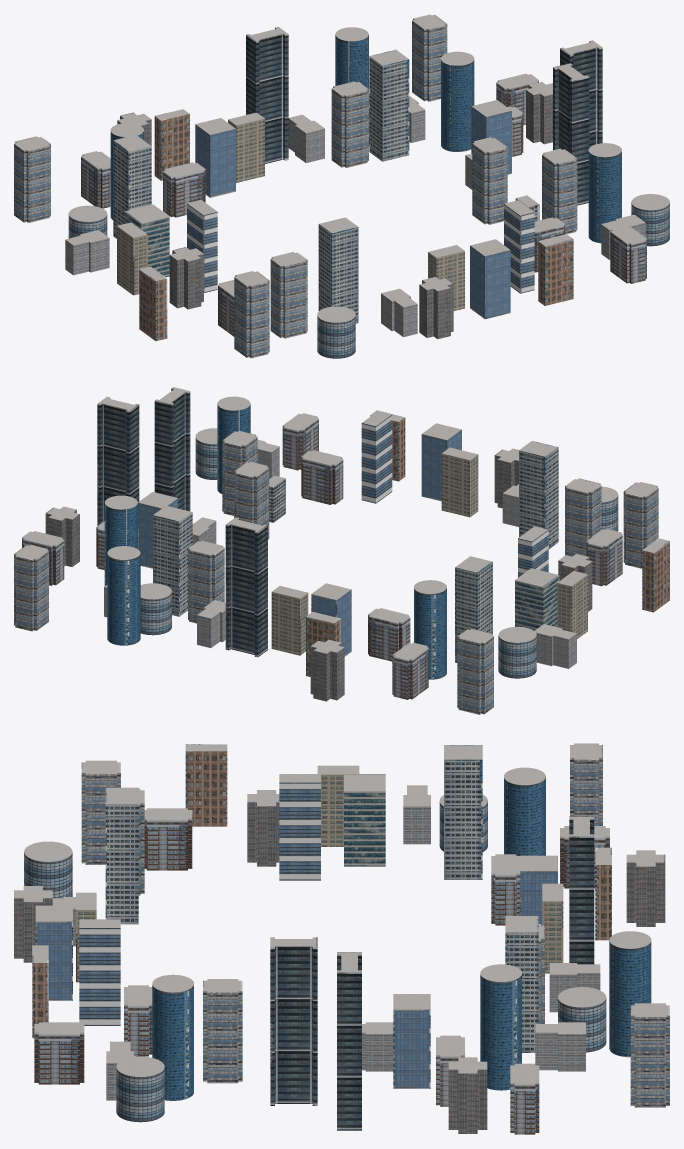
The model's file is BGBuilding.fbx.
3 renders of one model, top to bottom at view 1: azimuth 30°, elevation 25°; view 2: azimuth 150°, elevation 25°; view 3: azimuth 270°, elevation 25°, orthographic. The views are drawn at different scales.
Visible parts, largest first — view 1: building_007, building_004.007, building_007.002, building_004, building_019.004, building_009.004, building_009, building_009.003, building_024.002, building_004.004, building_009.002, building_019.005 (+35 smaller); view 2: building_007, building_007.001, building_007.002, building_004, building_004.007, building_019.002, building_009.003, building_009.006, building_004.004, building_019, building_030.001, building_009.002 (+37 smaller); view 3: building_007.002, building_004.004, building_019.004, building_019.005, building_004, building_030, building_030.001, building_007.001, building_019.002, building_009.005, building_009.006, building_026 (+36 smaller).
Part boxes in pixels (x1,y1,x2,y2): building_007: (246, 27, 288, 163); building_004.007: (369, 49, 409, 161); building_007.002: (553, 63, 589, 205); building_004: (318, 217, 358, 323); building_019.004: (441, 51, 474, 151); building_009.004: (270, 252, 307, 338); building_009: (331, 81, 368, 167); building_009.003: (14, 136, 50, 222); building_024.002: (470, 239, 510, 319); building_004.004: (113, 135, 151, 238); building_009.002: (234, 271, 269, 358); building_019.005: (588, 143, 621, 243); building_007: (225, 517, 267, 657); building_007.001: (97, 396, 139, 525); building_007.002: (154, 387, 190, 511); building_004: (519, 441, 558, 549); building_004.007: (153, 505, 192, 616); building_019.002: (107, 546, 140, 645); building_009.003: (457, 629, 493, 714); building_009.006: (14, 544, 48, 631); building_004.004: (455, 556, 492, 662); building_019: (414, 580, 446, 679); building_030.001: (361, 411, 392, 503); building_009.002: (623, 482, 658, 568); building_007.002: (270, 937, 317, 1105); building_004.004: (444, 745, 482, 879); building_019.004: (480, 964, 521, 1090); building_019.005: (152, 974, 193, 1100); building_004: (105, 787, 138, 924); building_030: (279, 774, 320, 880); building_030.001: (79, 919, 120, 1025); building_007.001: (337, 952, 361, 1130); building_019.002: (609, 931, 651, 1057); building_009.005: (203, 979, 242, 1083); building_009.006: (630, 1003, 669, 1107); building_026: (344, 774, 385, 866).
Bounding box in the file's own units: 770 × 180 × 678.
